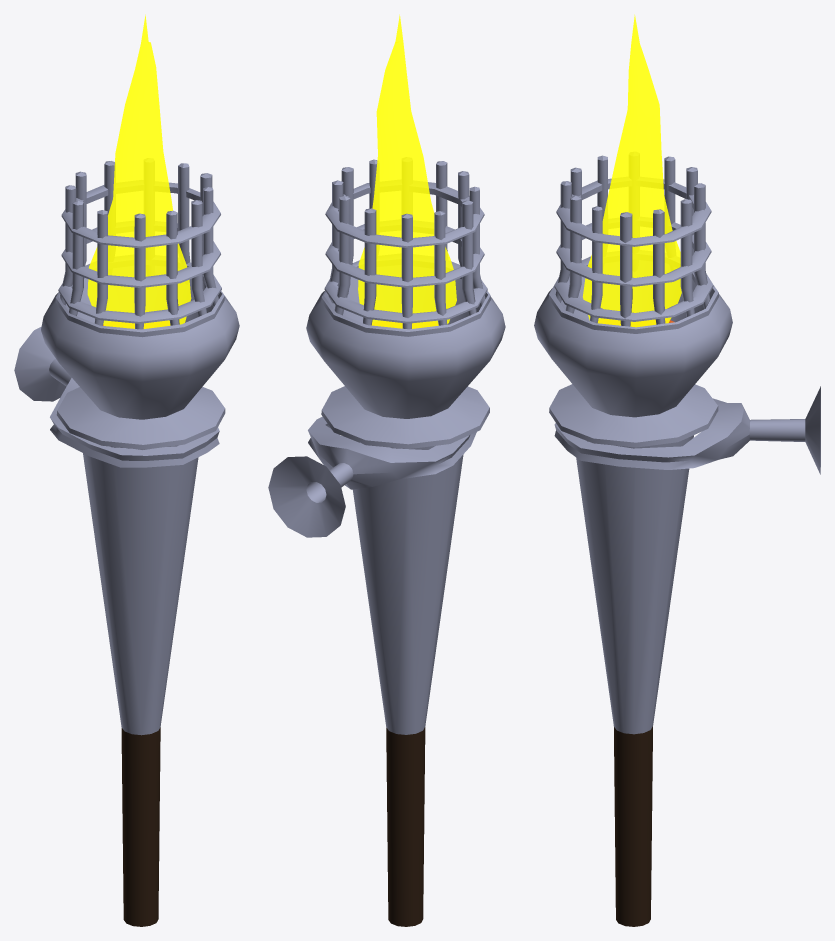
File: torch.fbx
3 views of the same model, side by side, from view 1: azimuth 30°, elevation 25°; view 2: azimuth 150°, elevation 25°; view 3: azimuth 270°, elevation 25° (orthographic).
Visible parts, largest first — view 1: metal, flame, wood; view 2: metal, flame, wood; view 3: metal, flame, wood.
Boxes of the visible parts, x1,y1,x2,y2 form: metal: (14, 161, 239, 735); flame: (87, 14, 191, 328); wood: (121, 727, 160, 926); metal: (268, 159, 505, 734); flame: (358, 14, 456, 328); wood: (386, 727, 425, 926); metal: (534, 155, 820, 734); flame: (582, 14, 681, 327); wood: (614, 726, 652, 926).
Size of the model in its own units: 137 by 686 by 196.
